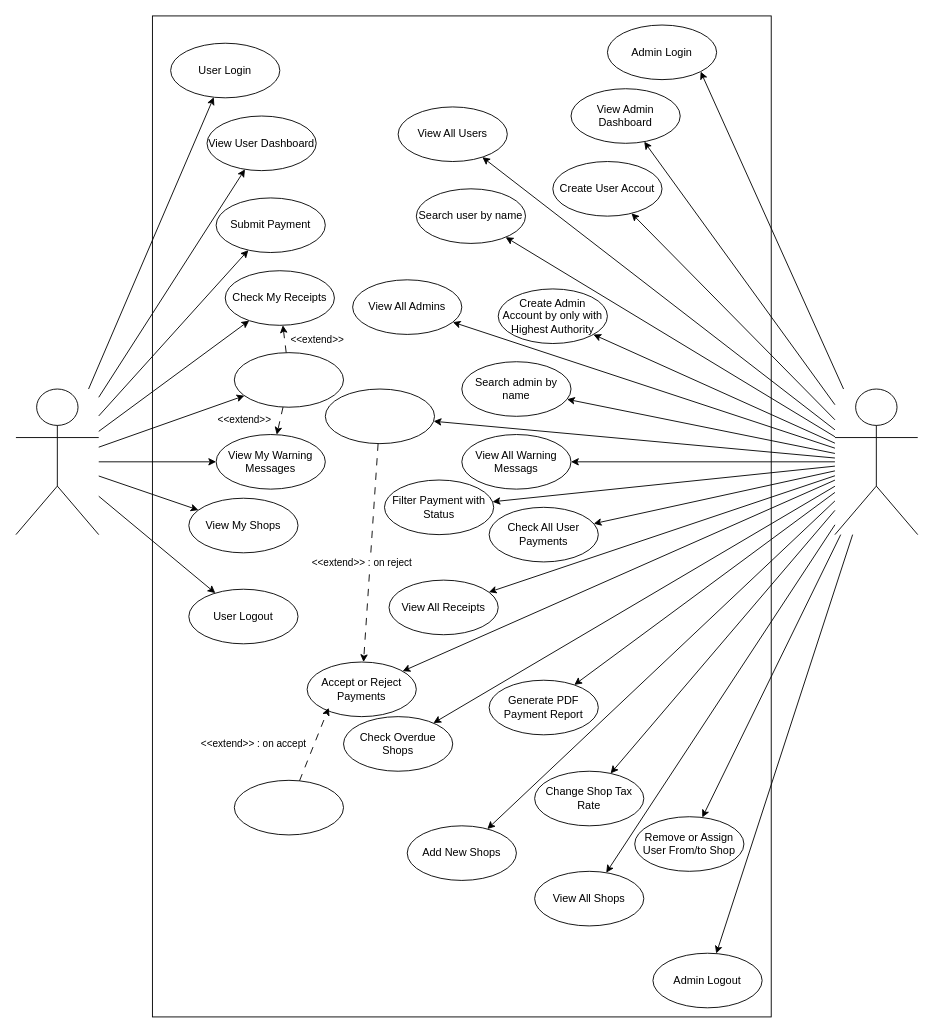
This 934x1033 diagram has some shape labels left out. Each missing label, with the centre of its shape:
Admin: (876,461)
Mark As Read: (288,379)
Send Receipt: (288,807)
Send Warning Messages: (379,416)
User: (57,461)
